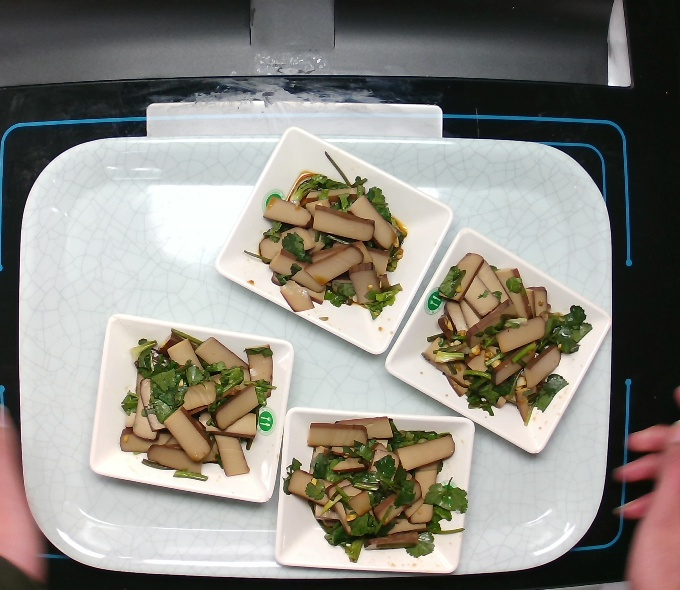wcq-JiDanGan: (287, 406, 481, 566), (422, 249, 595, 428), (110, 324, 274, 489), (249, 160, 406, 320)
